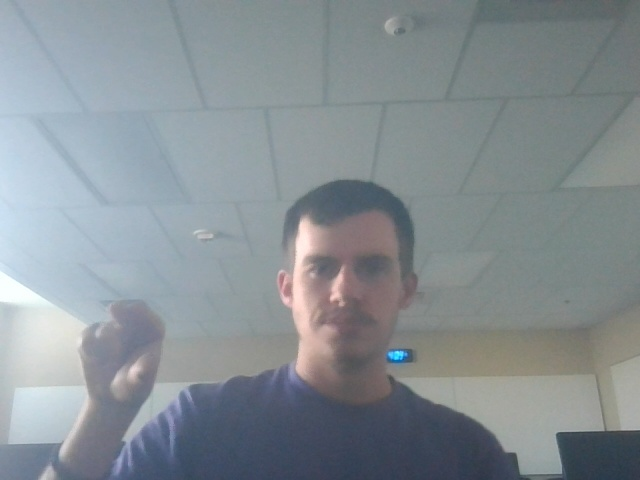no: (71, 290, 177, 411)
